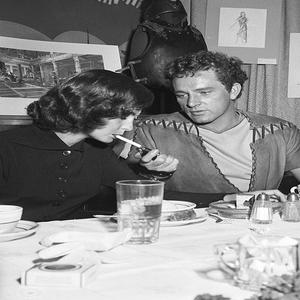cigarette: (112, 130, 151, 156)
